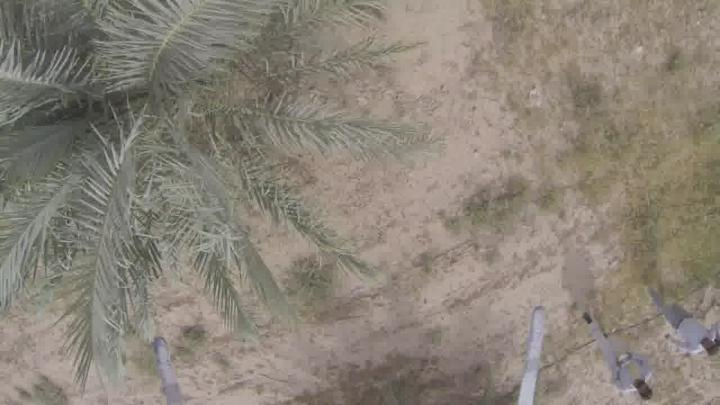Date-Palm-Crown: (12, 0, 276, 236)
